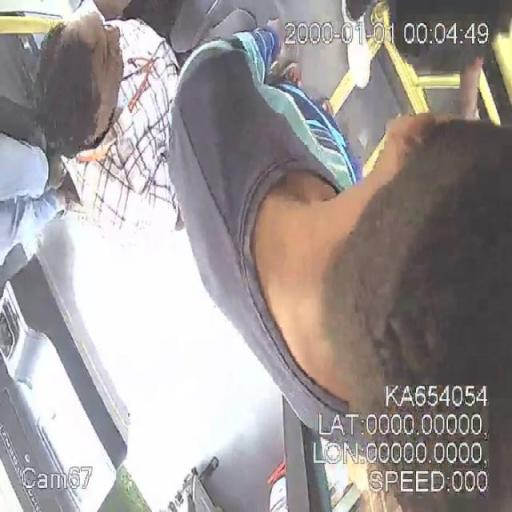persona: (165, 22, 511, 508), (30, 0, 186, 238)
